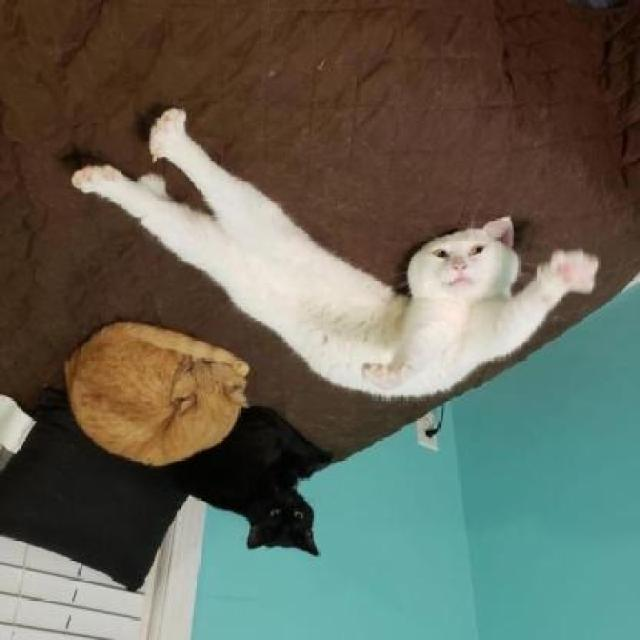cat: (101, 104, 617, 404), (62, 318, 252, 480), (192, 415, 338, 553)
